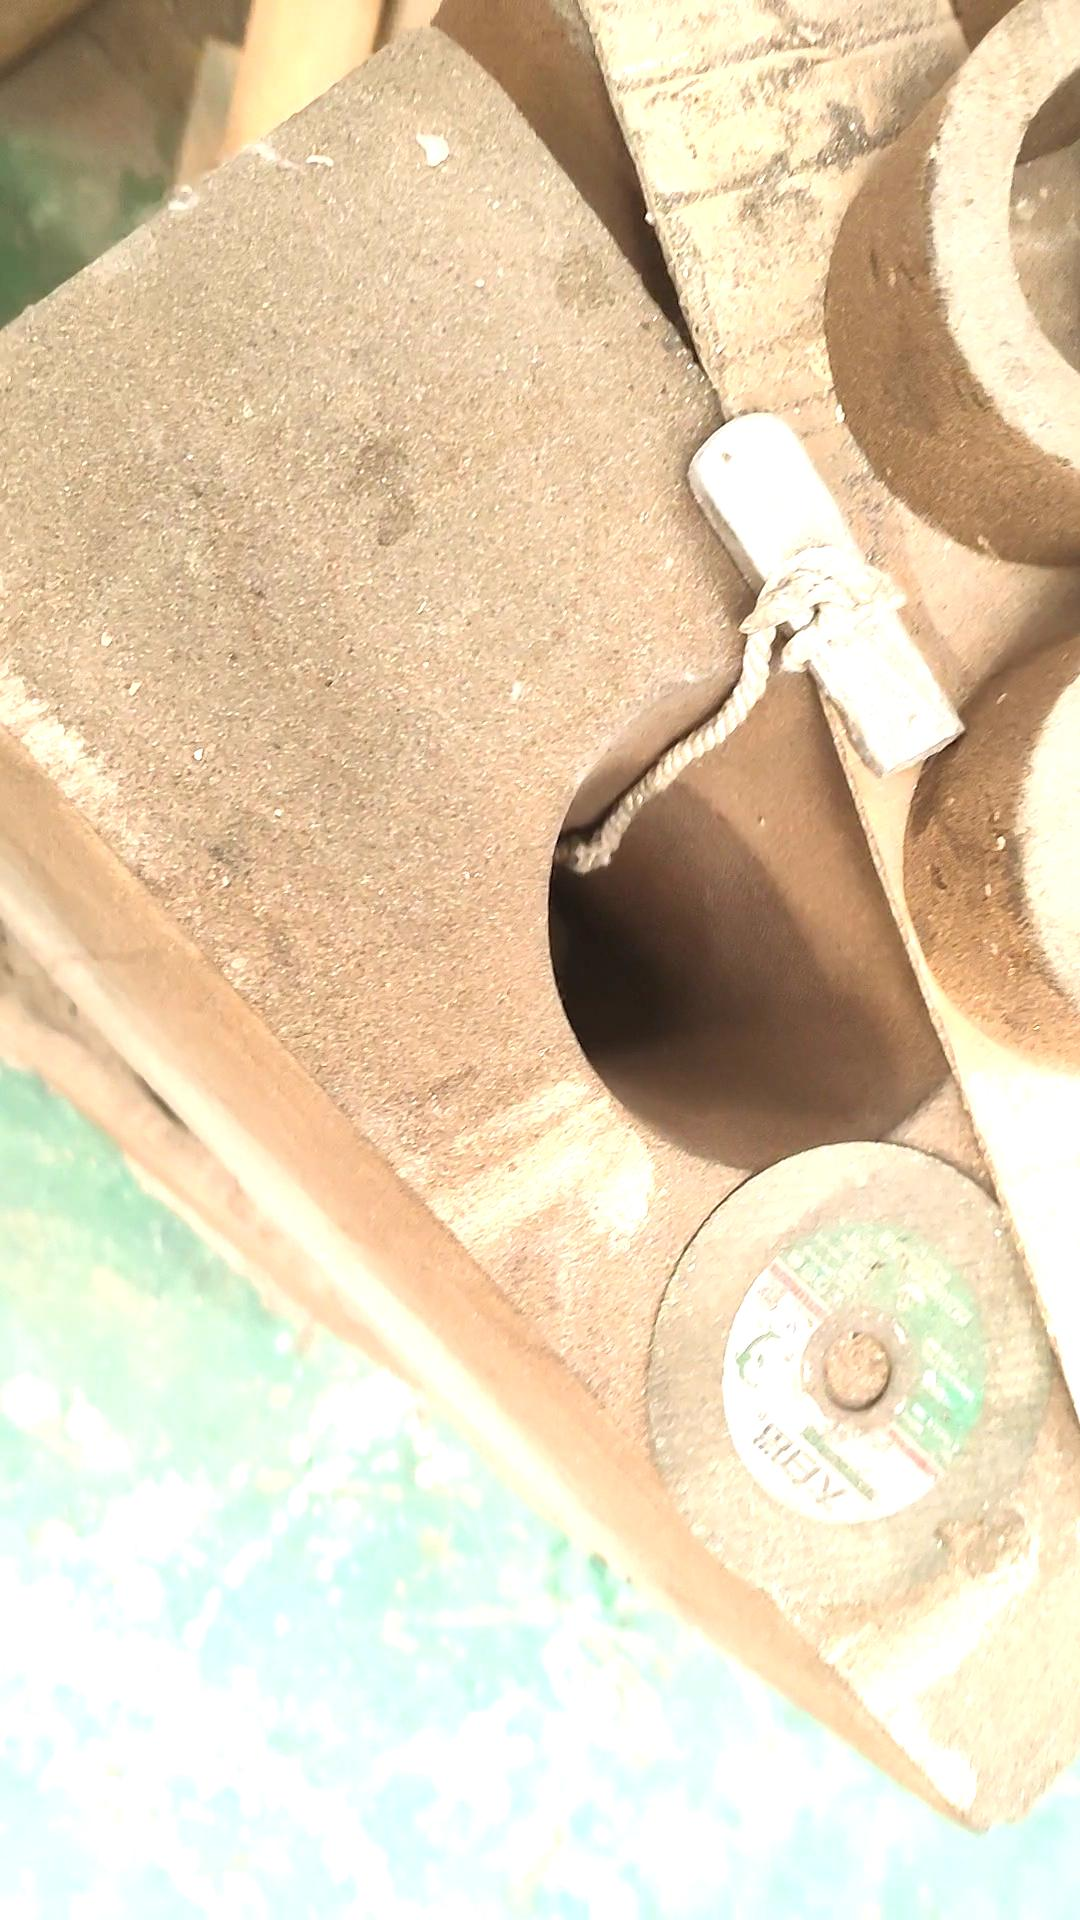pouring hole: (549, 647, 985, 1168)
